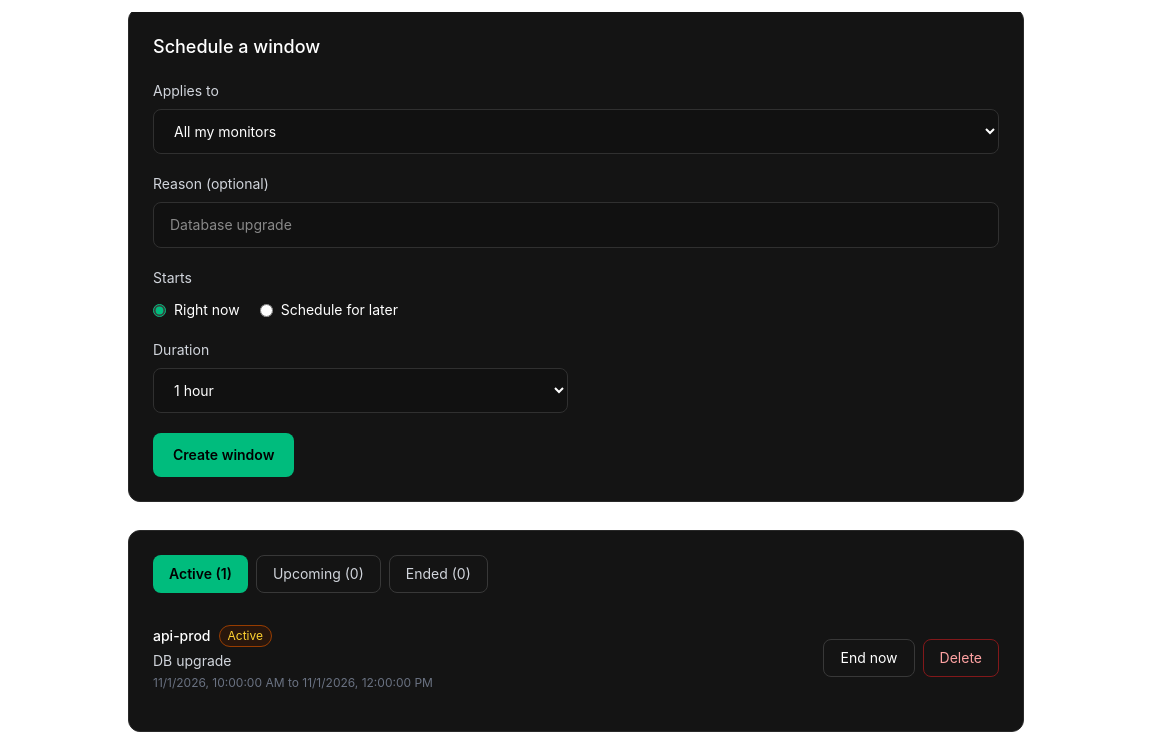
Test: MaintenanceWindows page › ends an active window right now
(page scrolled)
Click the button "End now": (869, 658) x1=824 y1=639 x2=915 y2=677
(page scrolled)
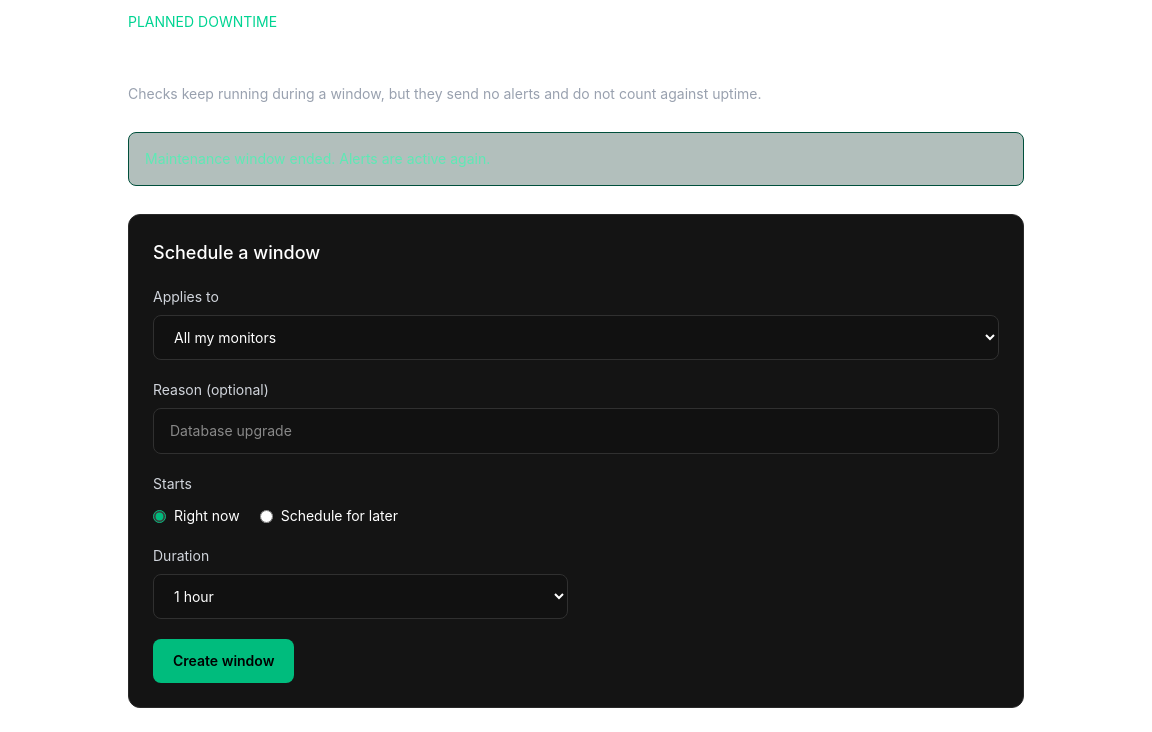
Check: the message shows "Alerts are active again.", box x1=145 y1=150 x2=490 y2=167
